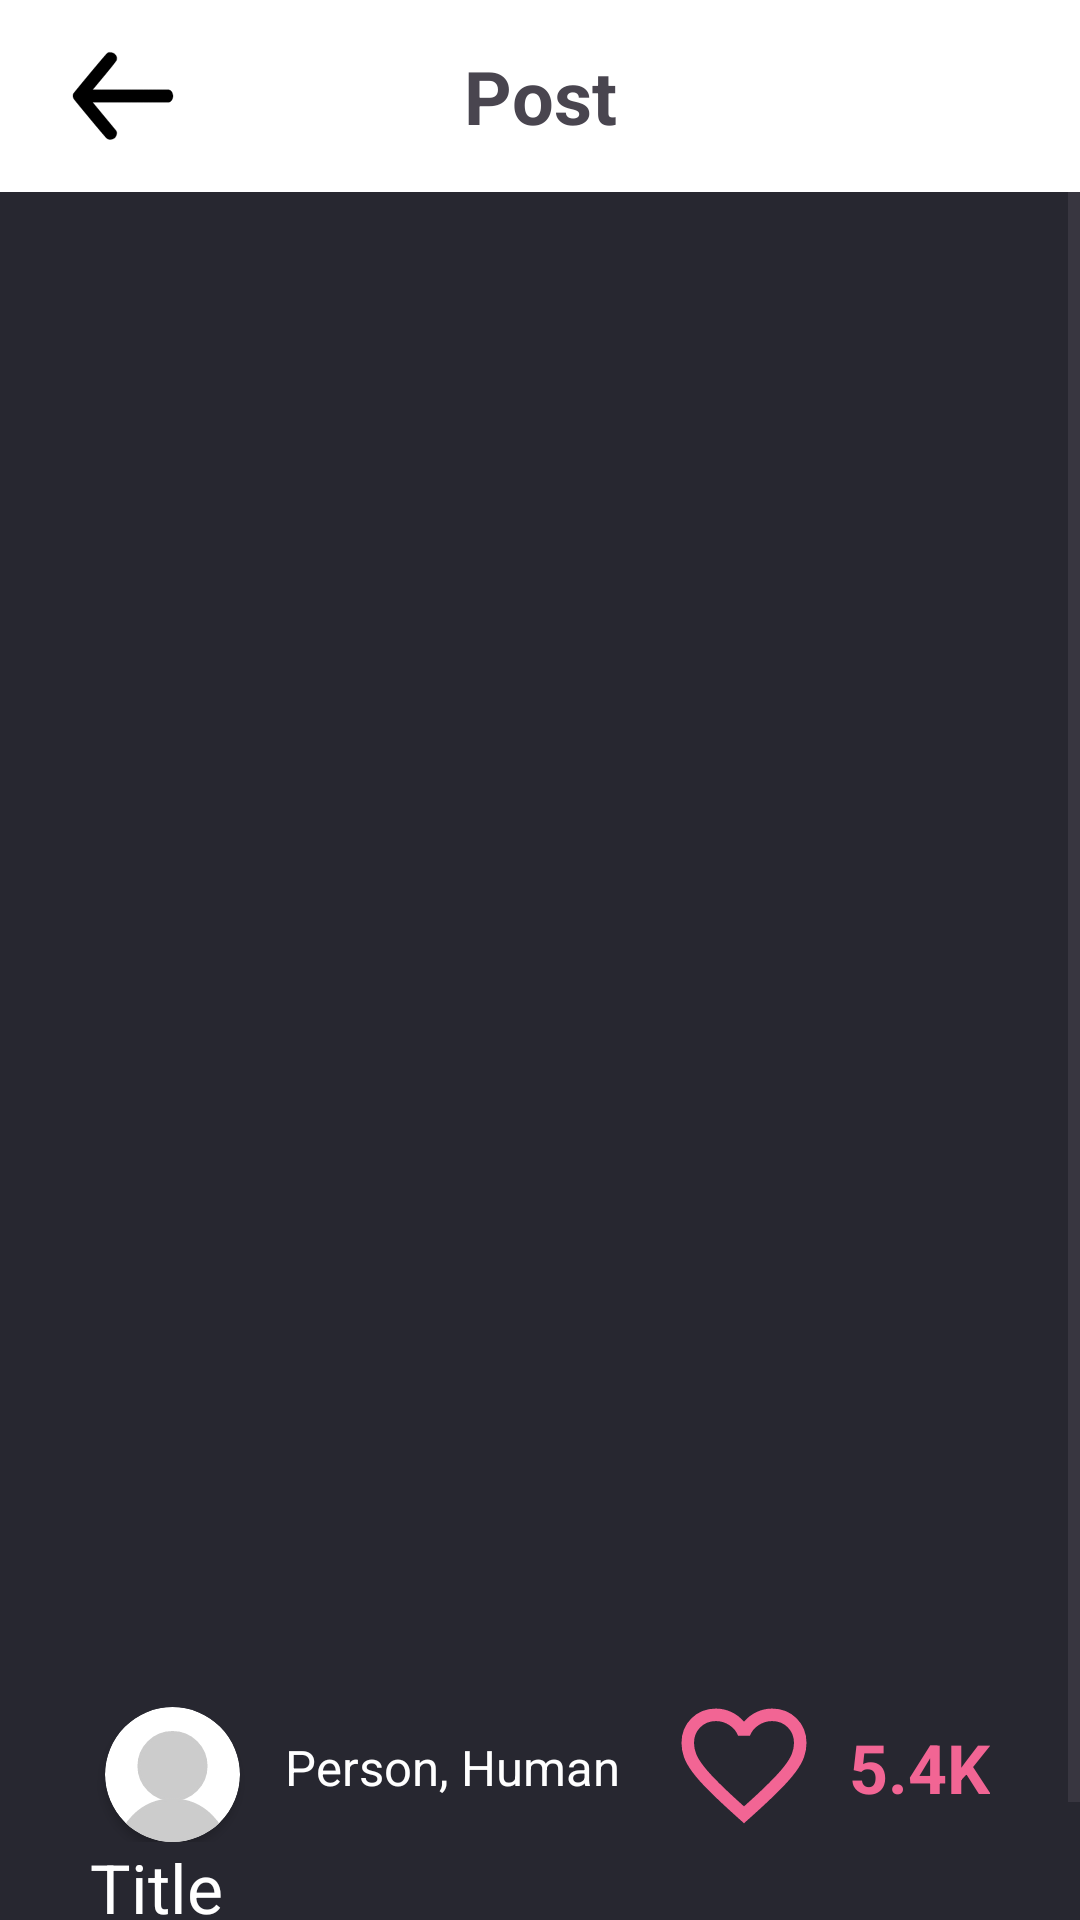

Where icons sit on this 1080*1920 app screen, as {"x1": x1, "y1": y1, "x2": x2, "y2": y2}:
arrow left darker: {"x1": 72, "y1": 52, "x2": 174, "y2": 140}
heart: {"x1": 681, "y1": 1708, "x2": 807, "y2": 1823}
